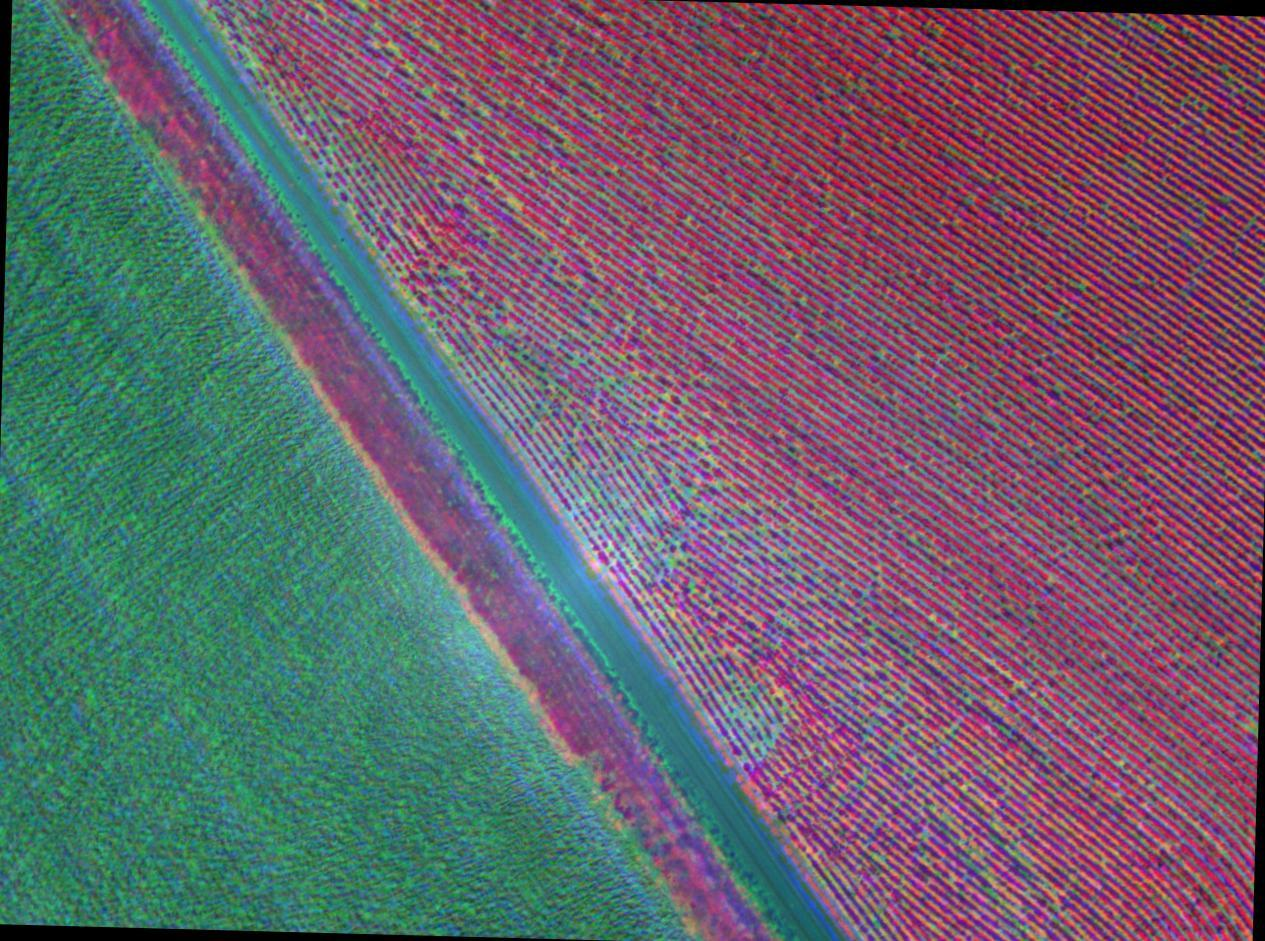dc: (500, 330, 506, 336), (509, 199, 515, 204), (351, 163, 356, 168), (451, 270, 456, 275), (551, 342, 556, 346), (590, 303, 594, 307), (1015, 684, 1020, 687)
